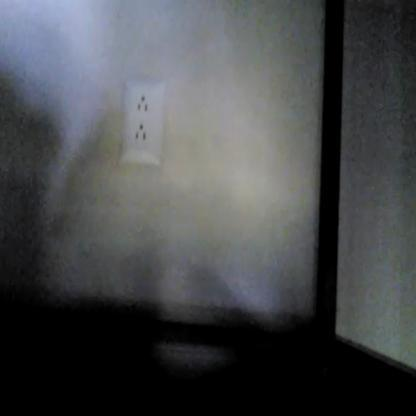OUTLET: (121, 76, 166, 166)
